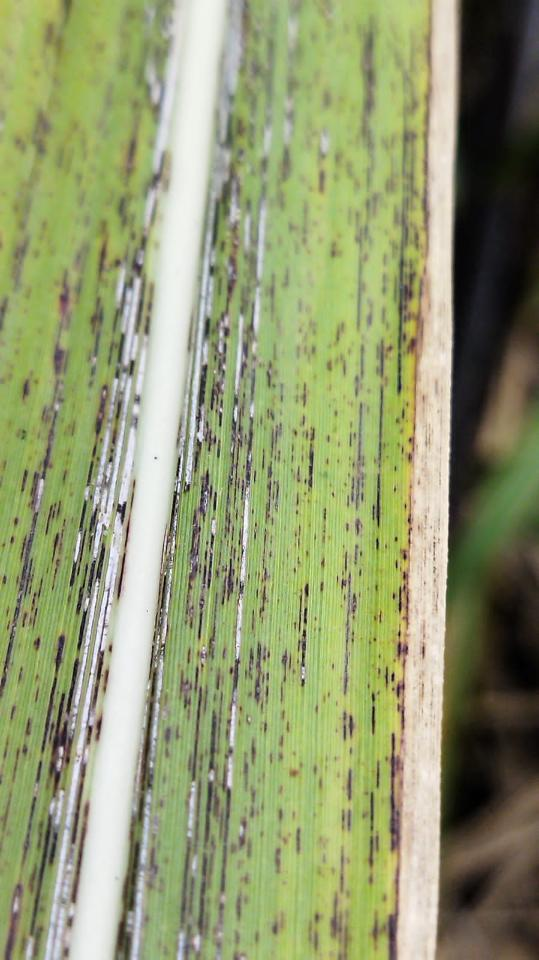Rust: (108, 0, 308, 959), (0, 0, 179, 959), (323, 8, 443, 959), (0, 0, 77, 387), (283, 379, 329, 596), (284, 118, 350, 267), (268, 581, 312, 766), (302, 0, 354, 114), (275, 781, 303, 859), (292, 296, 320, 366), (19, 366, 44, 407), (312, 834, 332, 880), (311, 753, 331, 792), (306, 907, 322, 955), (268, 906, 287, 942), (27, 54, 40, 106), (313, 689, 333, 717), (270, 844, 285, 879), (286, 757, 305, 781), (1, 40, 19, 62), (0, 103, 12, 135), (312, 611, 326, 638), (305, 268, 318, 293), (93, 34, 108, 54), (0, 455, 8, 490), (347, 102, 359, 117), (5, 82, 17, 95), (253, 774, 267, 785), (253, 928, 262, 945), (6, 418, 16, 433), (293, 363, 303, 377), (329, 659, 338, 673), (311, 372, 322, 382), (324, 469, 333, 481), (291, 746, 299, 757), (280, 879, 290, 887), (312, 809, 319, 820), (318, 800, 326, 808)
